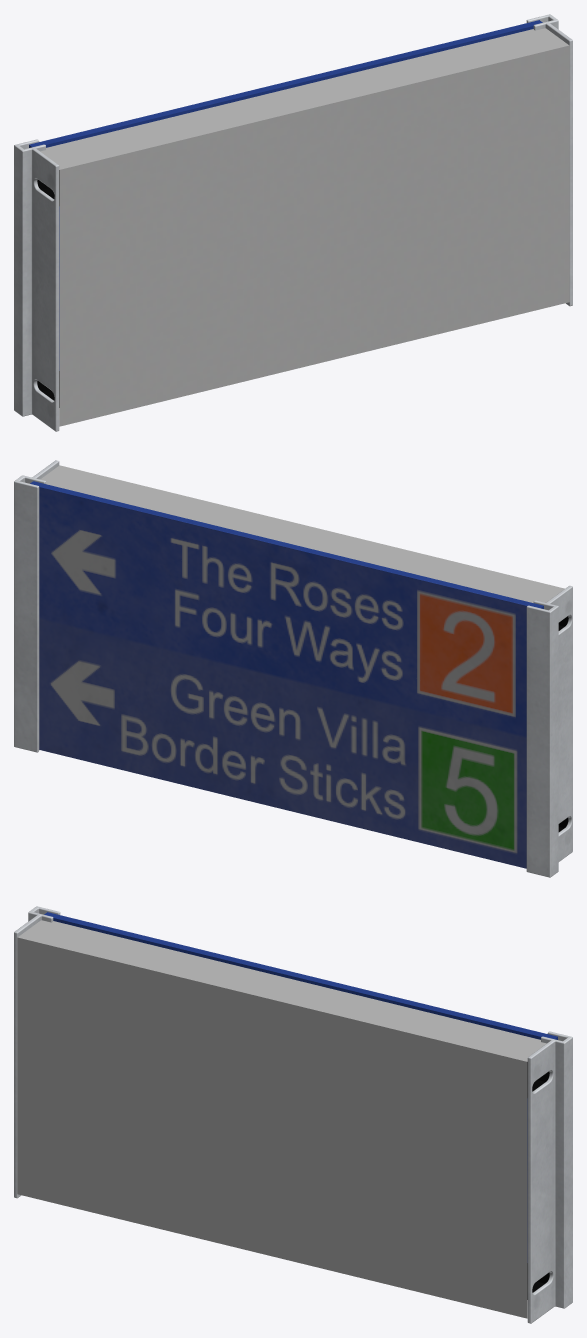
The model's file is SM_Sign_Directions_01a.fbx.
The picture shows the model from 3 angles, top to bottom: view 1: azimuth 30°, elevation 25°; view 2: azimuth 150°, elevation 25°; view 3: azimuth 330°, elevation 25°; orthographic projection.
Visible parts, largest first — view 1: SM_Sign_Directions_01a; view 2: SM_Sign_Directions_01a; view 3: SM_Sign_Directions_01a.
Part boxes in pixels (bbox=[...]): SM_Sign_Directions_01a: bbox=[14, 14, 572, 431]; SM_Sign_Directions_01a: bbox=[14, 460, 572, 877]; SM_Sign_Directions_01a: bbox=[14, 906, 572, 1323].
Size of the model in its own units: 84.47 by 8.88 by 40.
1 material, 1 textured.
